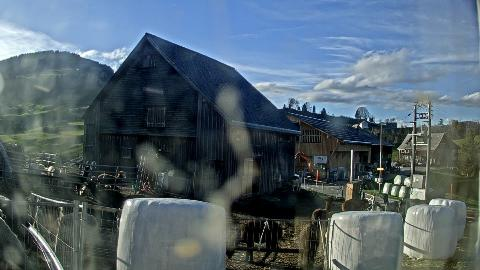car: (360, 171, 376, 179), (390, 166, 400, 174), (418, 160, 426, 166)
sheep: (225, 220, 283, 262), (50, 212, 98, 254), (0, 218, 36, 270), (0, 194, 28, 250), (85, 180, 125, 208), (299, 224, 322, 270), (63, 166, 91, 194), (311, 196, 335, 226), (380, 193, 410, 211), (26, 164, 46, 190), (98, 171, 126, 189), (343, 198, 370, 212), (48, 166, 60, 192), (290, 170, 304, 192), (360, 201, 380, 211), (0, 208, 6, 222)
